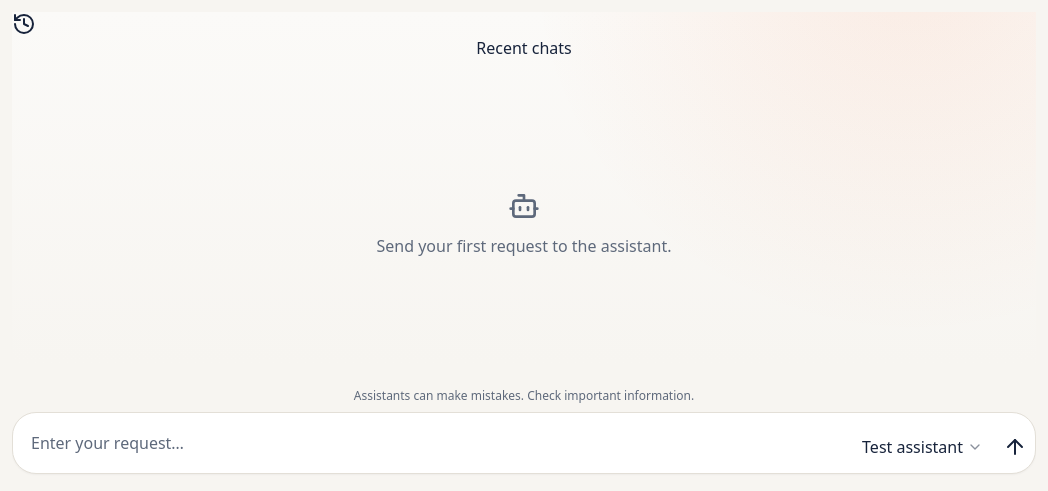
PlaygroundPage › offers login when refresh cannot recover an expired session
This screenshot has width=1048, height=491.
Expected: the text "Test assistant" is shown, [862, 435, 963, 459]
Step 1. Type "Hello" into the text box named "Message" → (432, 443), box [21, 421, 842, 465]
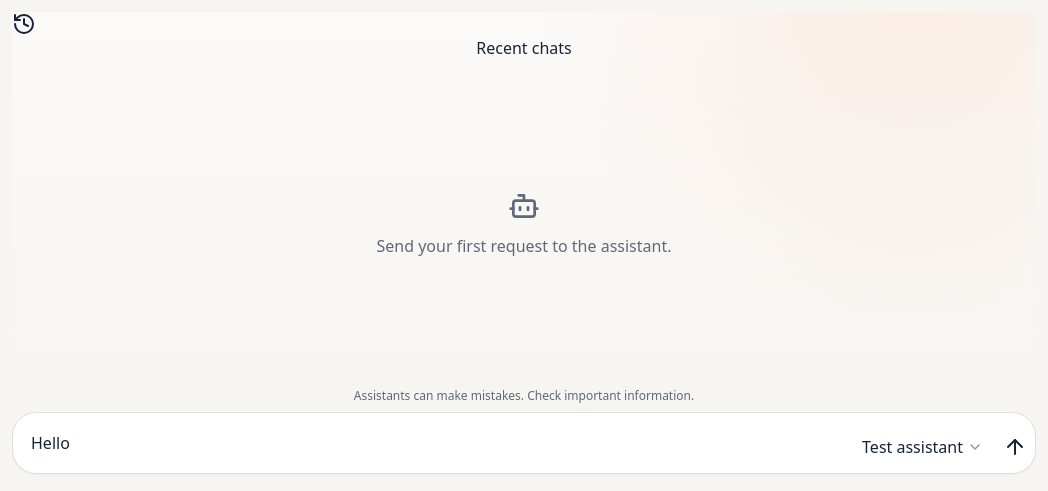
Step 2. Click the button named "Send" → click(1015, 447), box [1003, 435, 1027, 459]
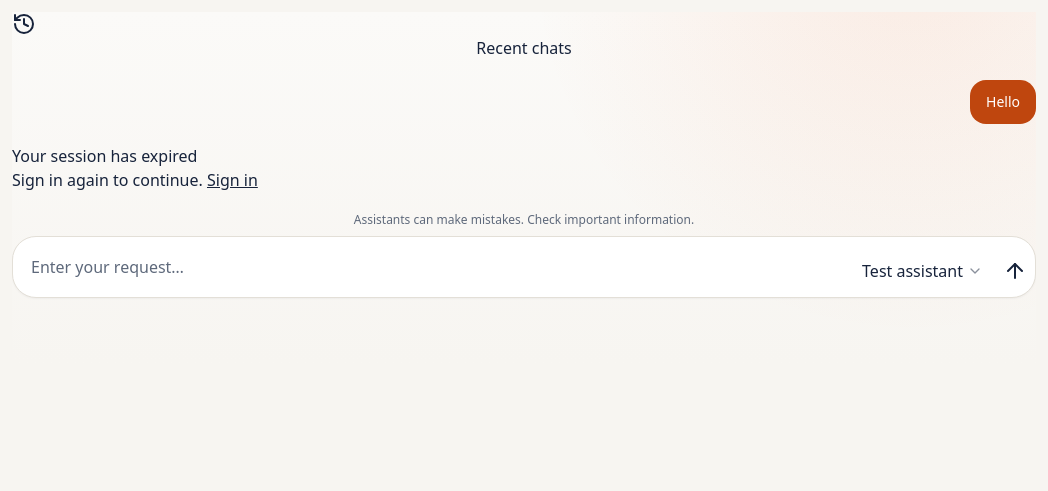
Now the text "Sign in again to continue." is shown, box [12, 169, 203, 191]
